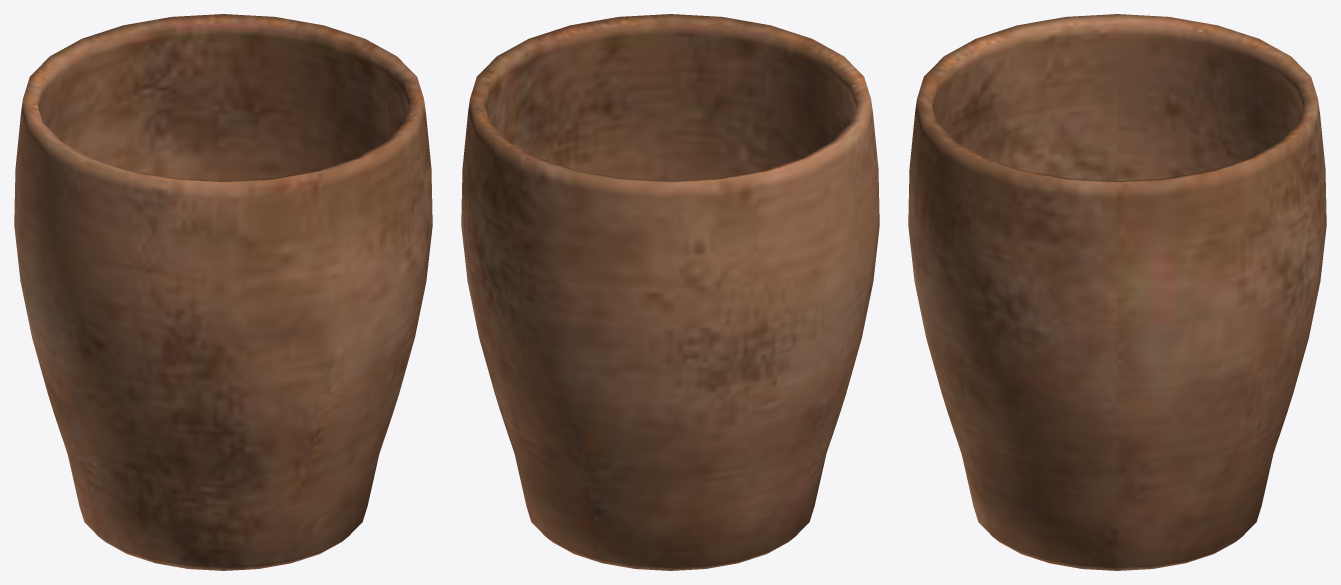
File: pot_tall_lod1_web.glb
3 renders of one model, left to right at view 1: azimuth 30°, elevation 25°; view 2: azimuth 150°, elevation 25°; view 3: azimuth 270°, elevation 25°, orthographic.
Visible parts, largest first — view 1: PotTall_Mesh; view 2: PotTall_Mesh; view 3: PotTall_Mesh.
Part boxes in pixels (x1=…): PotTall_Mesh: x1=14, y1=14, x2=432, y2=570; PotTall_Mesh: x1=461, y1=14, x2=879, y2=570; PotTall_Mesh: x1=908, y1=14, x2=1326, y2=570.
Size of the model in its own units: 0.2149 by 0.235 by 0.2149.
Materials: 1 (1 with a texture image).
